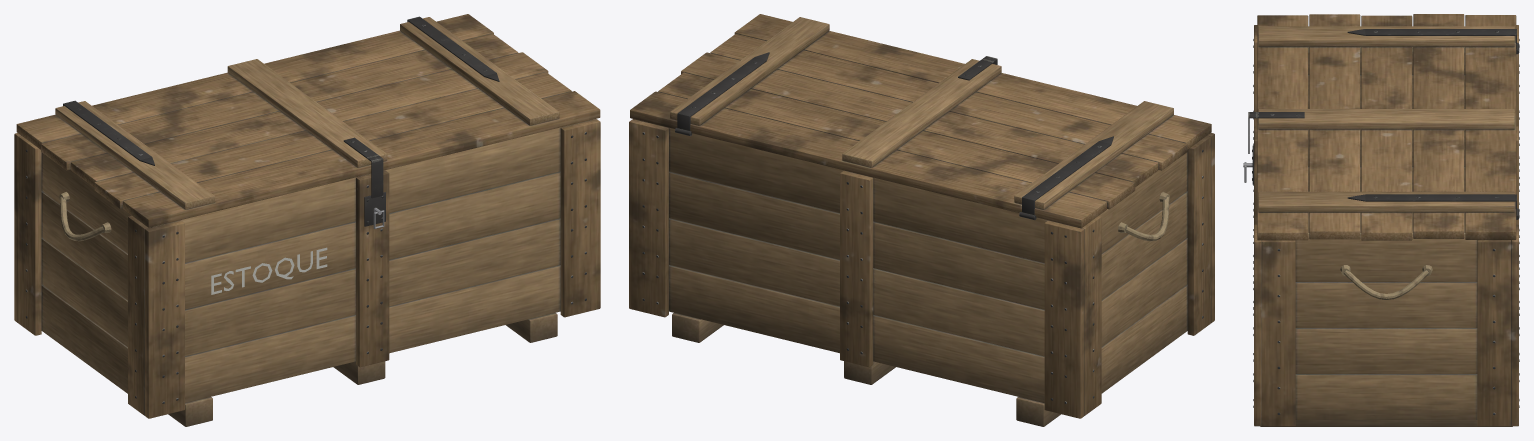
Rendered from caixote_grande.glb.
The picture shows the model from 3 angles, left to right: view 1: azimuth 30°, elevation 25°; view 2: azimuth 150°, elevation 25°; view 3: azimuth 270°, elevation 25°; orthographic projection.
Parts seen in each view (by area): view 1: corpo, tampa, tampa_ferragens, ferragens, letreiro, alcas; view 2: corpo, tampa, tampa_ferragens, alcas; view 3: tampa, corpo, tampa_ferragens, alcas, ferragens.
Part boxes in pixels (left/top/right/bottom): corpo: left=14, top=119, right=600, bottom=426; tampa: left=16, top=14, right=600, bottom=227; tampa_ferragens: left=63, top=16, right=499, bottom=198; ferragens: left=25, top=132, right=586, bottom=403; letreiro: left=211, top=247, right=327, bottom=294; alcas: left=59, top=192, right=111, bottom=241; corpo: left=629, top=119, right=1214, bottom=426; tampa: left=630, top=14, right=1211, bottom=228; tampa_ferragens: left=675, top=52, right=1113, bottom=220; alcas: left=1118, top=192, right=1169, bottom=241; tampa: left=1257, top=14, right=1516, bottom=240; corpo: left=1254, top=25, right=1518, bottom=426; tampa_ferragens: left=1248, top=29, right=1519, bottom=219; alcas: left=1340, top=265, right=1432, bottom=299; ferragens: left=1243, top=39, right=1519, bottom=415.
Size of the model in its own units: 1.53 by 0.6936 by 0.7756.
3 materials, 3 textured.
